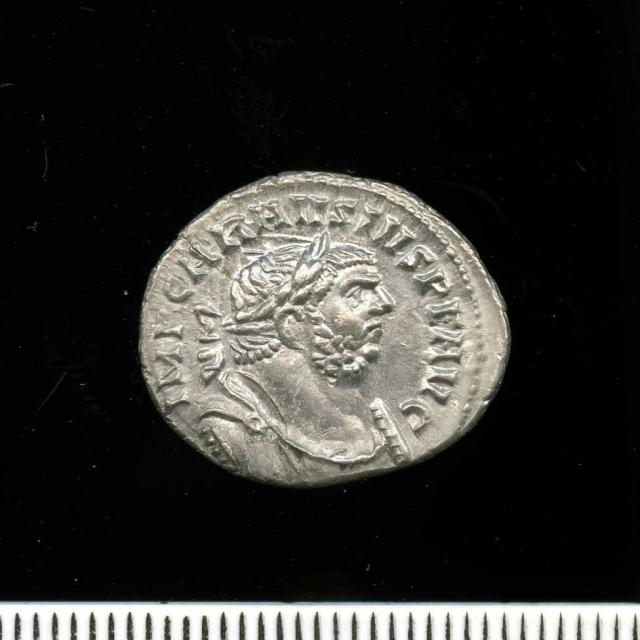Coin: (138, 168, 509, 487)
